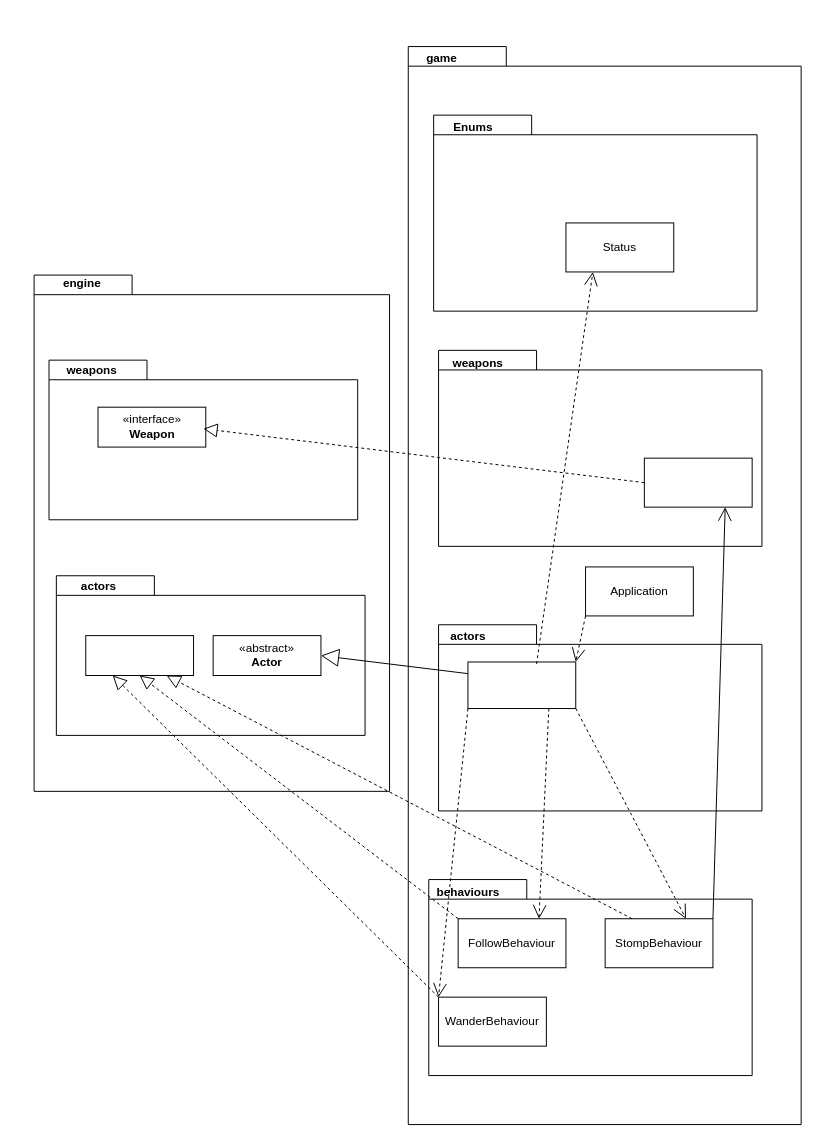
The diagram is 818 pixels wide and 1142 high, and some of its shapes have lost their labels. The shapes that lost their labels are listed below. From the top down, each one's centre as x and y in pixels, then its label:
point (697, 482): StompWeapon
point (139, 655): «interface» Behaviour
point (521, 685): FurnaceGolem
